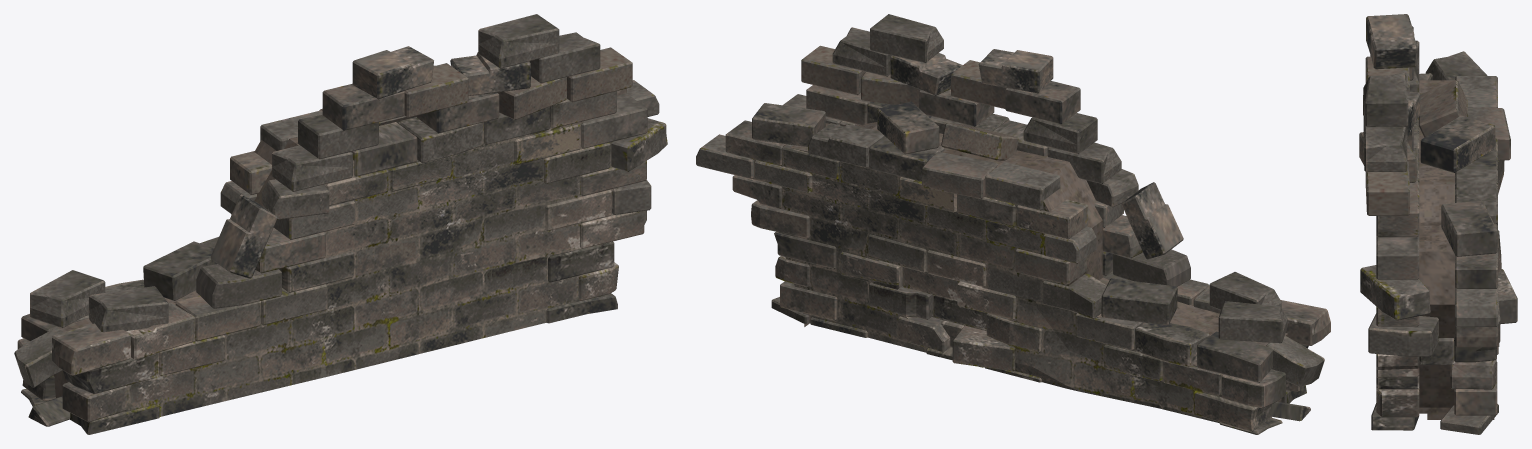
The model's file is SM_ASY_RuinsWall_Blocker_01.fbx.
3 views of the same model, side by side, from view 1: azimuth 30°, elevation 25°; view 2: azimuth 150°, elevation 25°; view 3: azimuth 270°, elevation 25° (orthographic). The views are drawn at different scales.
Parts seen in each view (by area): view 1: SM_ASY_RuinsWall_Blocker_01.mo; view 2: SM_ASY_RuinsWall_Blocker_01.mo; view 3: SM_ASY_RuinsWall_Blocker_01.mo.
Part boxes in pixels (bbox=[...]): SM_ASY_RuinsWall_Blocker_01.mo: bbox=[14, 14, 667, 434]; SM_ASY_RuinsWall_Blocker_01.mo: bbox=[696, 14, 1330, 434]; SM_ASY_RuinsWall_Blocker_01.mo: bbox=[1359, 14, 1517, 434].
Bounding box in the file's own units: 281 × 125 × 59.12.
